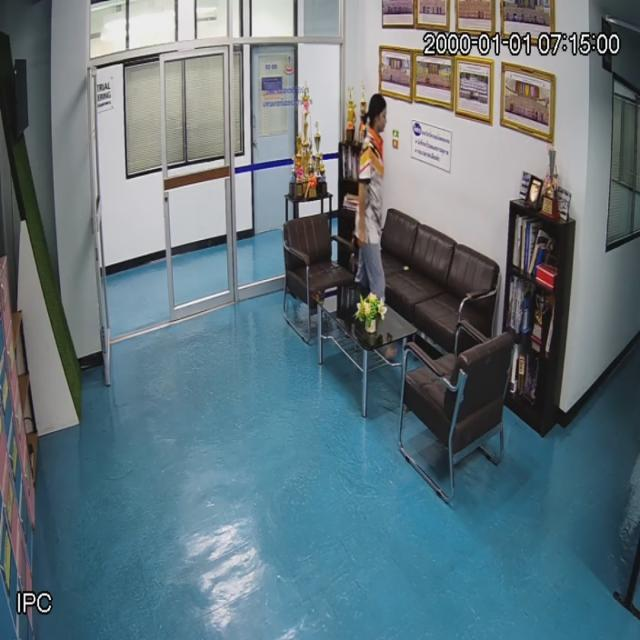normal: (348, 78, 394, 322)
